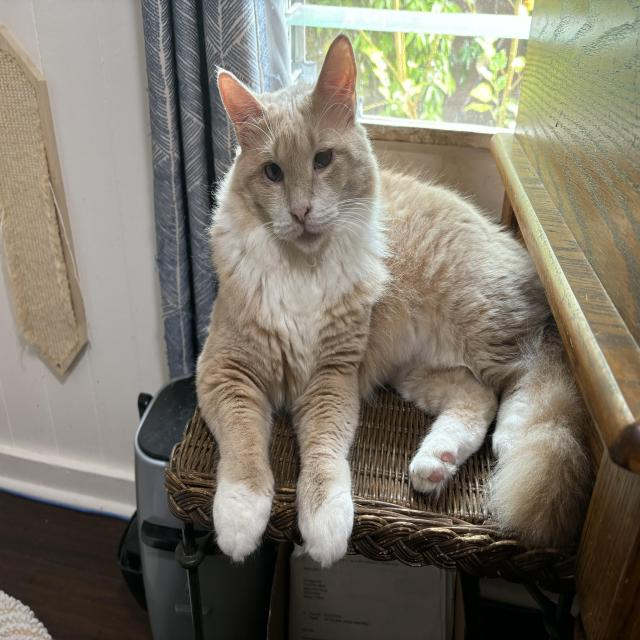maine_coon_cat: (202, 30, 392, 280)
